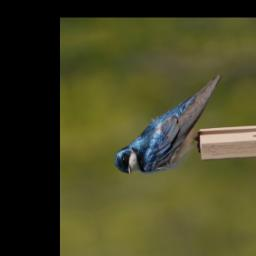Swallow: (97, 74, 242, 181)
